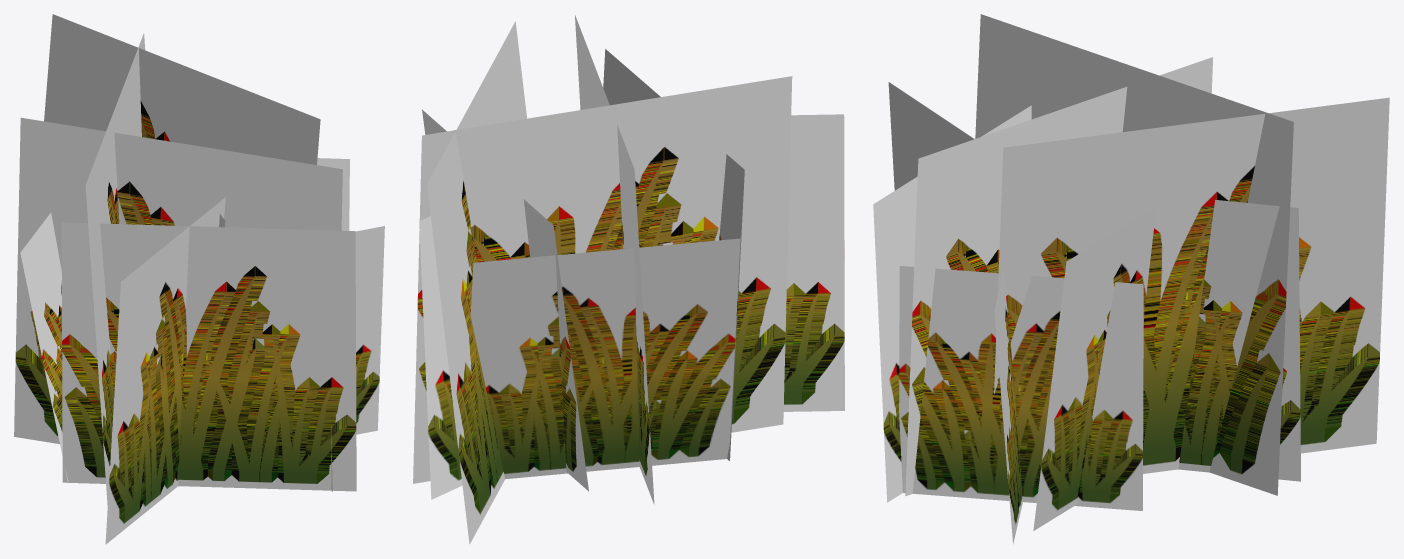
The model's file is low_grass_07.gltf.
3 views of the same model, side by side, from view 1: azimuth 30°, elevation 25°; view 2: azimuth 150°, elevation 25°; view 3: azimuth 270°, elevation 25° (orthographic). The views are drawn at different scales.
Visible parts, largest first — view 1: default; view 2: default; view 3: default.
Part boxes in pixels (x1,y1,x2,y2): default: [14, 14, 384, 544]; default: [413, 15, 844, 544]; default: [873, 14, 1389, 544].
Size of the model in its own units: 0.8227 by 0.8109 by 1.04.
1 material, 1 textured.
